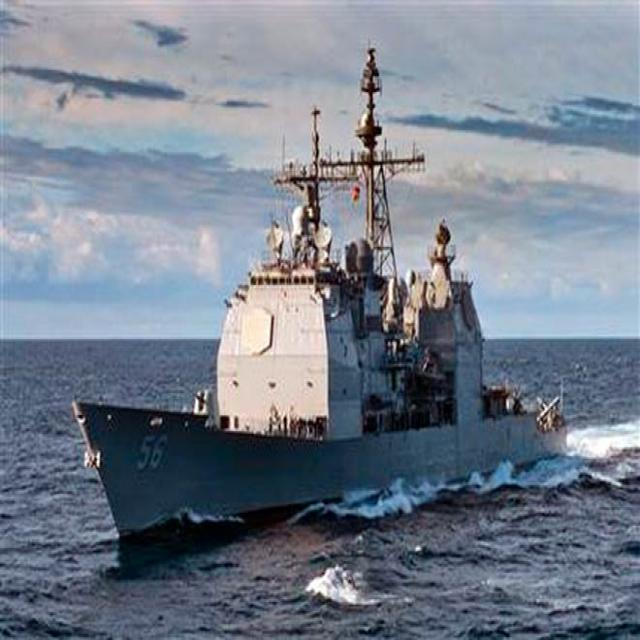navalvessels: (74, 42, 580, 546)
